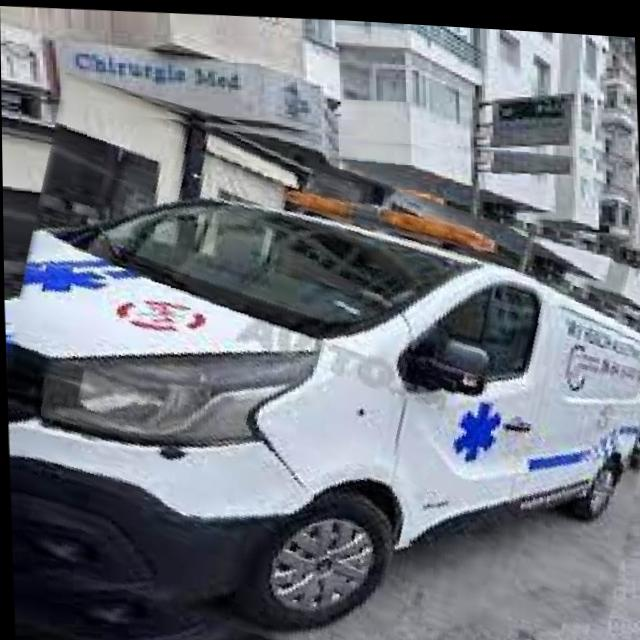ambulance: (1, 91, 640, 640)
